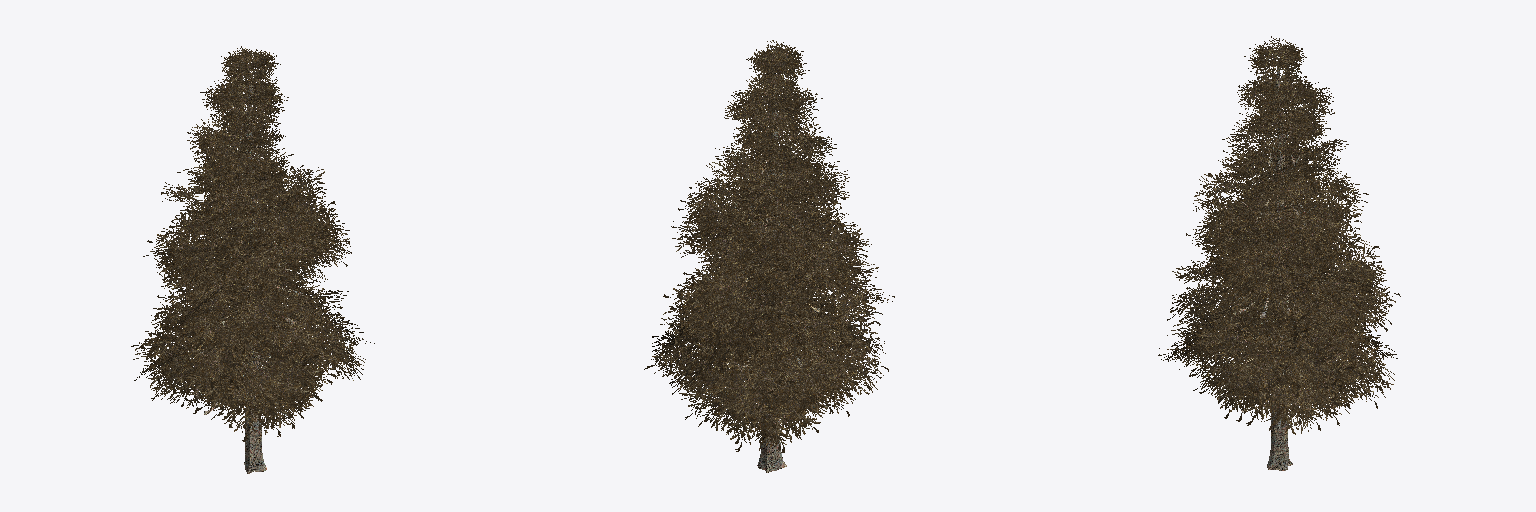
The picture shows the model from 3 angles: view 1: azimuth 30°, elevation 25°; view 2: azimuth 150°, elevation 25°; view 3: azimuth 270°, elevation 25°; orthographic projection.
Visible parts, largest first — view 1: fir_Needles, fir_Bark; view 2: fir_Needles, fir_Bark; view 3: fir_Needles, fir_Bark.
Part boxes in pixels (left/top/right/bottom): fir_Needles: left=131, top=46, right=374, bottom=441; fir_Bark: left=192, top=70, right=313, bottom=473; fir_Needles: left=644, top=40, right=894, bottom=452; fir_Bark: left=710, top=73, right=832, bottom=472; fir_Needles: left=1158, top=36, right=1400, bottom=434; fir_Bark: left=1219, top=65, right=1333, bottom=470.
Size of the model in its own units: 69.52 by 109 by 66.73.
Materials: 2 (2 with a texture image).